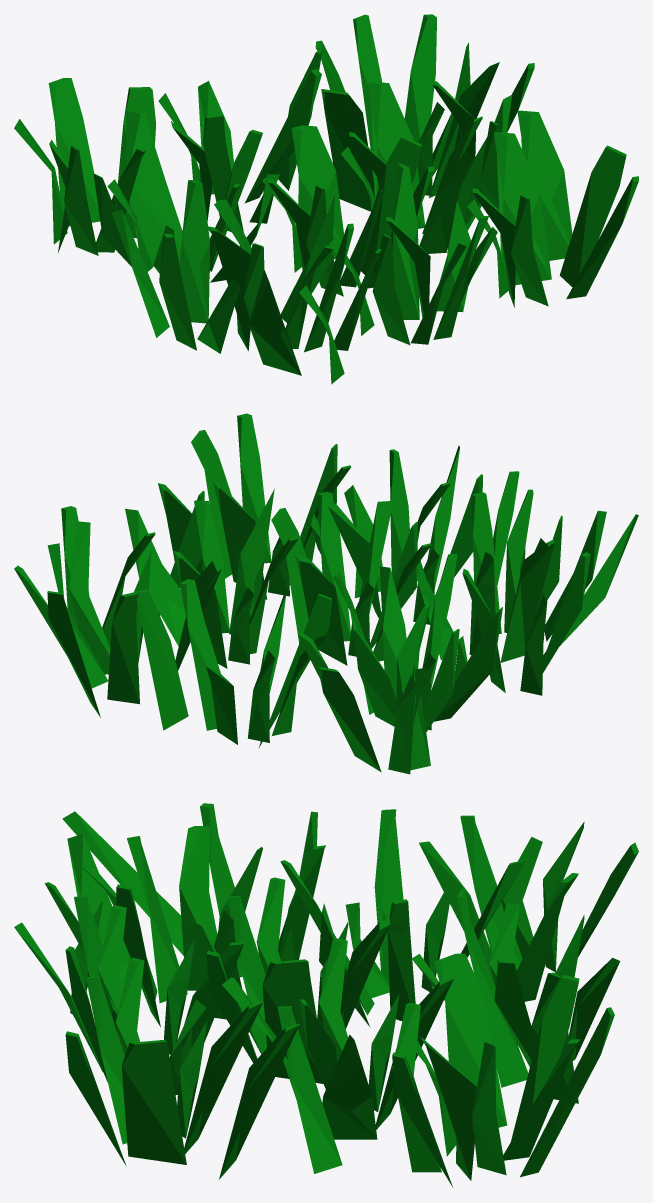
File: grasscutlowishtex.glb
3 renders of one model, top to bottom at view 1: azimuth 30°, elevation 25°; view 2: azimuth 150°, elevation 25°; view 3: azimuth 270°, elevation 25°, orthographic. The views are drawn at different scales.
Visible parts, largest first — view 1: Blade2.007; view 2: Blade2.007; view 3: Blade2.007.
Boxes of the visible parts, x1,y1,x2,y2 form: Blade2.007: (14, 14, 638, 384); Blade2.007: (14, 413, 638, 774); Blade2.007: (14, 803, 638, 1187).
Size of the model in its own units: 20.83 by 6.39 by 21.31.
